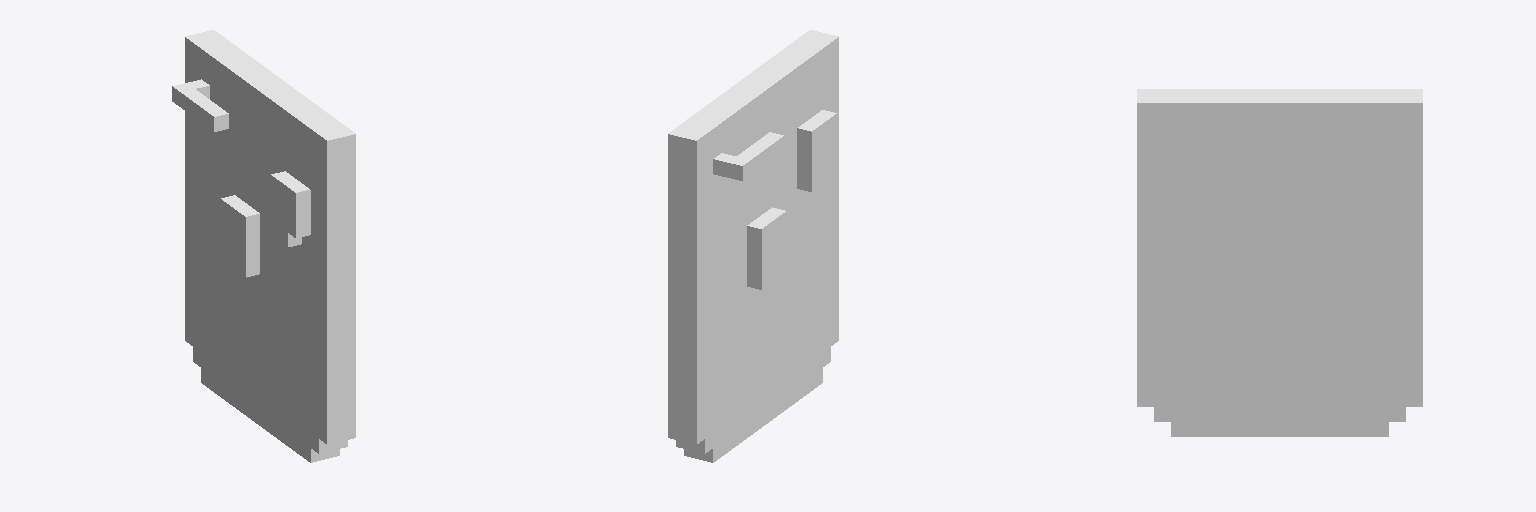
File: Kitchen_cabinets-25.obj
3 renders of one model, left to right at view 1: azimuth 30°, elevation 25°; view 2: azimuth 150°, elevation 25°; view 3: azimuth 270°, elevation 25°, orthographic.
Visible parts, largest first — view 1: object 1; view 2: object 1; view 3: object 1.
Boxes of the visible parts, x1=… form: object 1: x1=172, y1=30, x2=355, y2=462; object 1: x1=668, y1=30, x2=838, y2=462; object 1: x1=1137, y1=89, x2=1422, y2=436.
Bounding box in the file's own units: 0.4 × 2.2 × 1.7.